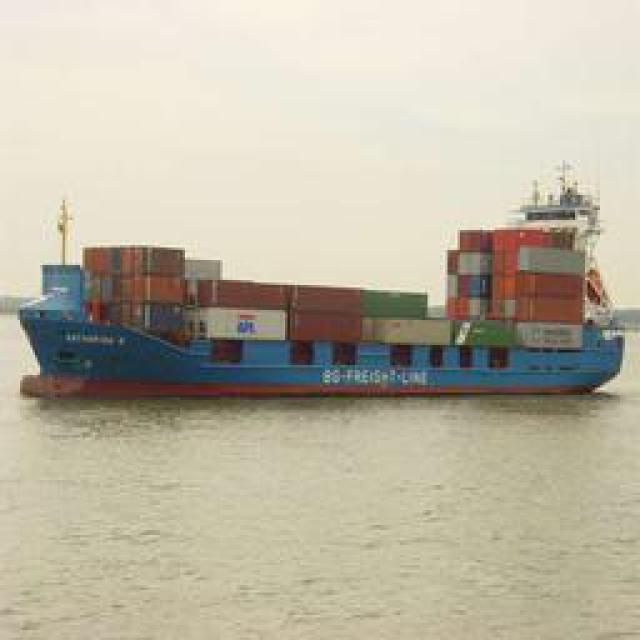Ship: (13, 259, 621, 404)
